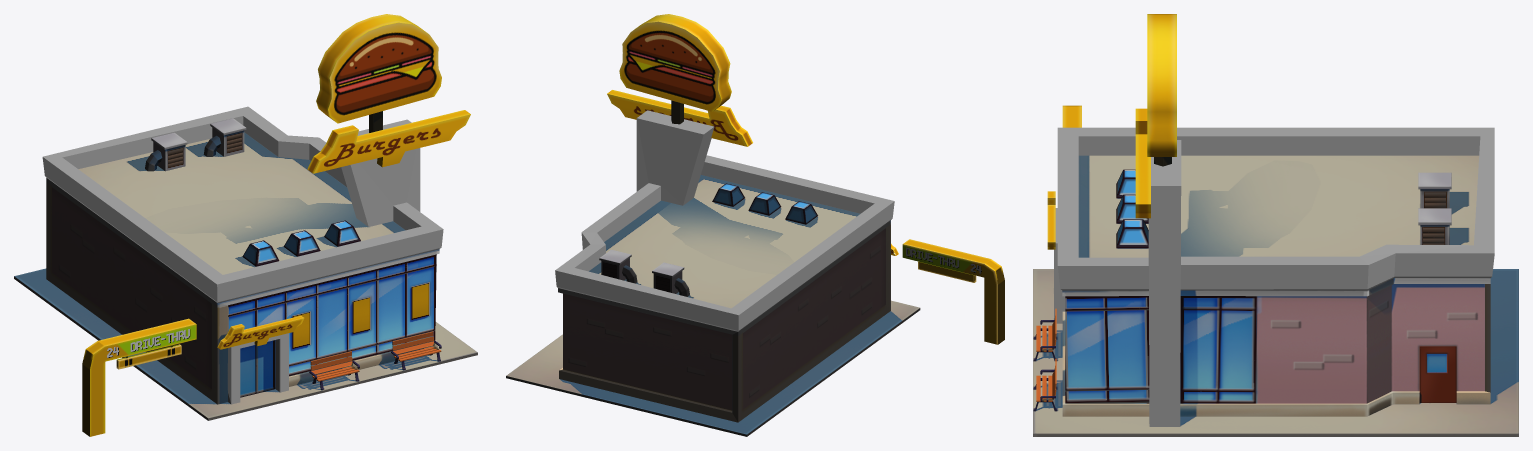
File: Faculty_20180523.fbx
The picture shows the model from 3 angles, left to right: view 1: azimuth 30°, elevation 25°; view 2: azimuth 150°, elevation 25°; view 3: azimuth 270°, elevation 25°; orthographic projection. The views are drawn at different scales.
Visible parts, largest first — view 1: Building2, Icon, Floor, Sign_2, Drive_thru, door, Sign_1, Bench_1, Bench_2, sign_drivetru; view 2: Building2, Icon, Floor, Drive_thru, Sign_2, sign_drivetru; view 3: Building2, Floor, Icon, Sign_2, Bench_1, Bench_2, Sign_1.
Part boxes in pixels (<box>): Building2: <box>42,106,443,404</box>; Icon: <box>316,14,441,123</box>; Floor: <box>14,268,477,420</box>; Sign_2: <box>307,110,470,173</box>; Drive_thru: <box>82,318,196,436</box>; door: <box>240,340,275,397</box>; Sign_1: <box>217,316,304,349</box>; Bench_1: <box>391,331,441,370</box>; Bench_2: <box>309,351,359,389</box>; sign_drivetru: <box>116,344,181,369</box>; Building2: <box>555,100,894,422</box>; Icon: <box>619,14,731,111</box>; Floor: <box>506,300,920,436</box>; Drive_thru: <box>902,239,1004,344</box>; Sign_2: <box>607,90,752,146</box>; sign_drivetru: <box>918,261,976,282</box>; Building2: <box>1054,127,1494,426</box>; Floor: <box>1033,269,1518,436</box>; Icon: <box>1147,14,1176,156</box>; Sign_2: <box>1135,108,1150,218</box>; Bench_1: <box>1033,358,1057,411</box>; Bench_2: <box>1033,308,1057,361</box>; Sign_1: <box>1047,191,1055,249</box>.
Bounding box in the file's own units: 9.49 × 7.78 × 6.81.
